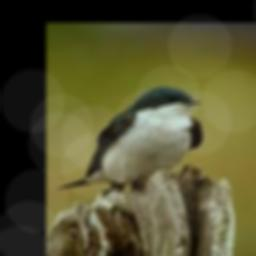Swallow: (58, 86, 202, 190)
